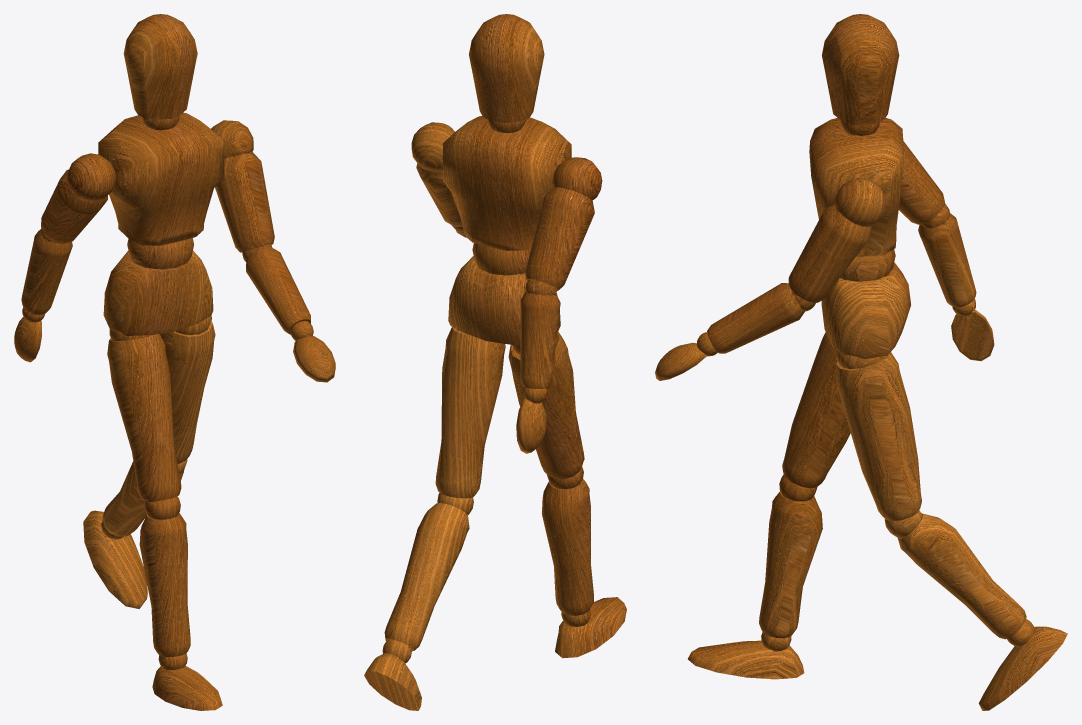
The model's file is dummy_obj_1.obj.
3 renders of one model, left to right at view 1: azimuth 30°, elevation 25°; view 2: azimuth 150°, elevation 25°; view 3: azimuth 270°, elevation 25°, orthographic. The views are drawn at different scales.
Visible parts, largest first — view 1: dummy_hips3_dummy_belly_dummy_torso, dummy_hips3_dummy_rpelvis_dummy_rupleg, dummy_hips3, dummy_hips3_dummy_belly_dummy_torso_dummy_neck_dummy_headq, dummy_hips3_dummy_rpelvis_dummy_rupleg_dummy_rknee_dummy_rleg, dummy_hips3_dummy_lpelvis_dummy_lupleg, dummy_hips3_dummy_belly_dummy_torso_dummy_lshoulder_dummy_larm, dummy_hips3_dummy_lpelvis_dummy_lupleg_dummy_lknee_dummy_ll.000, dummy_hips3_dummy_belly_dummy_torso_dummy_lshoulder_dummy_l.000, dummy_hips3_dummy_belly_dummy_torso_dummy_rshoulder_dummy_r.001, dummy_hips3_dummy_belly_dummy_torso_dummy_rshoulder_dummy_rarm, dummy_hips3_dummy_rpelvis_dummy_rupleg_dummy_rknee_dummy_rleg_d (+7 smaller); view 2: dummy_hips3_dummy_belly_dummy_torso, dummy_hips3_dummy_lpelvis_dummy_lupleg, dummy_hips3_dummy_belly_dummy_torso_dummy_neck_dummy_headq, dummy_hips3_dummy_lpelvis_dummy_lupleg_dummy_lknee_dummy_lleg, dummy_hips3_dummy_rpelvis_dummy_rupleg_dummy_rknee_dummy_rleg, dummy_hips3, dummy_hips3_dummy_rpelvis_dummy_rupleg, dummy_hips3_dummy_belly_dummy_torso_dummy_rshoulder_dummy_rarm, dummy_hips3_dummy_belly_dummy_torso_dummy_rshoulder_dummy_r.001, dummy_hips3_dummy_rpelvis_dummy_rupleg_dummy_rknee_dummy_rleg_d, dummy_hips3_dummy_lpelvis_dummy_lupleg_dummy_lknee_dummy_ll.000, dummy_hips3_dummy_belly_dummy_torso_dummy_rshoulder (+5 smaller); view 3: dummy_hips3_dummy_lpelvis_dummy_lupleg, dummy_hips3_dummy_belly_dummy_torso, dummy_hips3_dummy_belly_dummy_torso_dummy_neck_dummy_headq, dummy_hips3_dummy_lpelvis_dummy_lupleg_dummy_lknee_dummy_lleg, dummy_hips3_dummy_rpelvis_dummy_rupleg_dummy_rknee_dummy_rleg, dummy_hips3, dummy_hips3_dummy_rpelvis_dummy_rupleg, dummy_hips3_dummy_belly_dummy_torso_dummy_lshoulder_dummy_larm, dummy_hips3_dummy_belly_dummy_torso_dummy_lshoulder_dummy_l.000, dummy_hips3_dummy_rpelvis_dummy_rupleg_dummy_rknee_dummy_rleg_d, dummy_hips3_dummy_belly_dummy_torso_dummy_rshoulder_dummy_r.001, dummy_hips3_dummy_lpelvis_dummy_lupleg_dummy_lknee_dummy_ll.000 (+5 smaller).
Part boxes in pixels (x1=…): dummy_hips3_dummy_belly_dummy_torso: x1=98, y1=112, x2=224, y2=245; dummy_hips3_dummy_rpelvis_dummy_rupleg: x1=107, y1=334, x2=181, y2=501; dummy_hips3: x1=103, y1=250, x2=213, y2=335; dummy_hips3_dummy_belly_dummy_torso_dummy_neck_dummy_headq: x1=123, y1=14, x2=197, y2=119; dummy_hips3_dummy_rpelvis_dummy_rupleg_dummy_rknee_dummy_rleg: x1=139, y1=513, x2=190, y2=656; dummy_hips3_dummy_lpelvis_dummy_lupleg: x1=160, y1=320, x2=215, y2=463; dummy_hips3_dummy_belly_dummy_torso_dummy_lshoulder_dummy_larm: x1=215, y1=151, x2=274, y2=252; dummy_hips3_dummy_lpelvis_dummy_lupleg_dummy_lknee_dummy_ll.000: x1=83, y1=510, x2=147, y2=608; dummy_hips3_dummy_belly_dummy_torso_dummy_lshoulder_dummy_l.000: x1=246, y1=246, x2=310, y2=334; dummy_hips3_dummy_belly_dummy_torso_dummy_rshoulder_dummy_r.001: x1=21, y1=229, x2=72, y2=315; dummy_hips3_dummy_belly_dummy_torso_dummy_rshoulder_dummy_rarm: x1=41, y1=169, x2=107, y2=244; dummy_hips3_dummy_rpelvis_dummy_rupleg_dummy_rknee_dummy_rleg_d: x1=152, y1=666, x2=222, y2=710; dummy_hips3_dummy_belly_dummy_torso: x1=443, y1=115, x2=571, y2=250; dummy_hips3_dummy_lpelvis_dummy_lupleg: x1=435, y1=327, x2=505, y2=498; dummy_hips3_dummy_belly_dummy_torso_dummy_neck_dummy_headq: x1=469, y1=14, x2=544, y2=122; dummy_hips3_dummy_lpelvis_dummy_lupleg_dummy_lknee_dummy_lleg: x1=384, y1=503, x2=469, y2=651; dummy_hips3_dummy_rpelvis_dummy_rupleg_dummy_rknee_dummy_rleg: x1=541, y1=479, x2=593, y2=615; dummy_hips3: x1=448, y1=256, x2=560, y2=345; dummy_hips3_dummy_rpelvis_dummy_rupleg: x1=508, y1=331, x2=584, y2=479; dummy_hips3_dummy_belly_dummy_torso_dummy_rshoulder_dummy_rarm: x1=525, y1=187, x2=594, y2=290; dummy_hips3_dummy_belly_dummy_torso_dummy_rshoulder_dummy_r.001: x1=520, y1=292, x2=560, y2=388; dummy_hips3_dummy_rpelvis_dummy_rupleg_dummy_rknee_dummy_rleg_d: x1=555, y1=597, x2=626, y2=658; dummy_hips3_dummy_lpelvis_dummy_lupleg_dummy_lknee_dummy_ll.000: x1=364, y1=653, x2=421, y2=710; dummy_hips3_dummy_belly_dummy_torso_dummy_rshoulder: x1=552, y1=157, x2=602, y2=200; dummy_hips3_dummy_lpelvis_dummy_lupleg: x1=835, y1=352, x2=921, y2=520; dummy_hips3_dummy_belly_dummy_torso: x1=809, y1=118, x2=903, y2=256; dummy_hips3_dummy_belly_dummy_torso_dummy_neck_dummy_headq: x1=822, y1=14, x2=899, y2=125; dummy_hips3_dummy_lpelvis_dummy_lupleg_dummy_lknee_dummy_lleg: x1=897, y1=513, x2=1026, y2=639; dummy_hips3_dummy_rpelvis_dummy_rupleg_dummy_rknee_dummy_rleg: x1=759, y1=491, x2=822, y2=638; dummy_hips3: x1=821, y1=262, x2=910, y2=358; dummy_hips3_dummy_rpelvis_dummy_rupleg: x1=782, y1=332, x2=850, y2=488; dummy_hips3_dummy_belly_dummy_torso_dummy_lshoulder_dummy_larm: x1=788, y1=203, x2=871, y2=302; dummy_hips3_dummy_belly_dummy_torso_dummy_lshoulder_dummy_l.000: x1=707, y1=283, x2=804, y2=353; dummy_hips3_dummy_rpelvis_dummy_rupleg_dummy_rknee_dummy_rleg_d: x1=688, y1=640, x2=804, y2=679; dummy_hips3_dummy_belly_dummy_torso_dummy_rshoulder_dummy_r.001: x1=918, y1=213, x2=976, y2=307; dummy_hips3_dummy_lpelvis_dummy_lupleg_dummy_lknee_dummy_ll.000: x1=978, y1=626, x2=1067, y2=710.
Bounding box in the file's own units: 52.56 × 176 × 97.82.
Materials: 1 (1 with a texture image).
